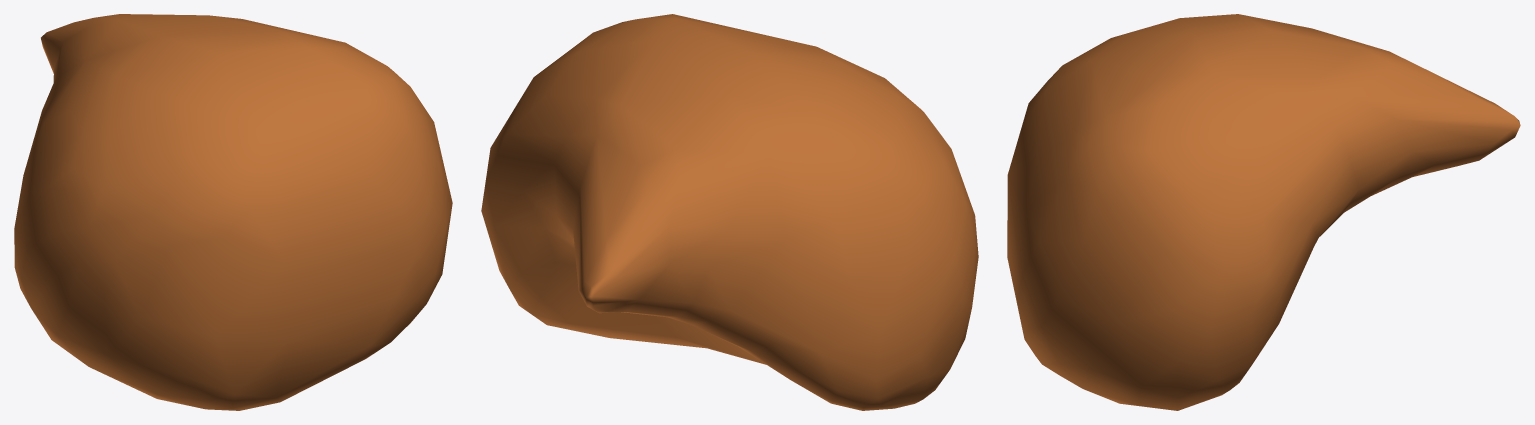
File: Amygdaloid_body_right.glb
The picture shows the model from 3 angles, left to right: view 1: azimuth 30°, elevation 25°; view 2: azimuth 150°, elevation 25°; view 3: azimuth 270°, elevation 25°; orthographic projection. The views are drawn at different scales.
Parts seen in each view (by area): view 1: Amygdaloid_body.r_grp1.122; view 2: Amygdaloid_body.r_grp1.122; view 3: Amygdaloid_body.r_grp1.122.
Part boxes in pixels (x1,y1,x2,y2): Amygdaloid_body.r_grp1.122: (14,14,452,410); Amygdaloid_body.r_grp1.122: (481,14,978,410); Amygdaloid_body.r_grp1.122: (1007,14,1520,410).
Size of the model in its own units: 0.0165 by 0.0124 by 0.0178.
